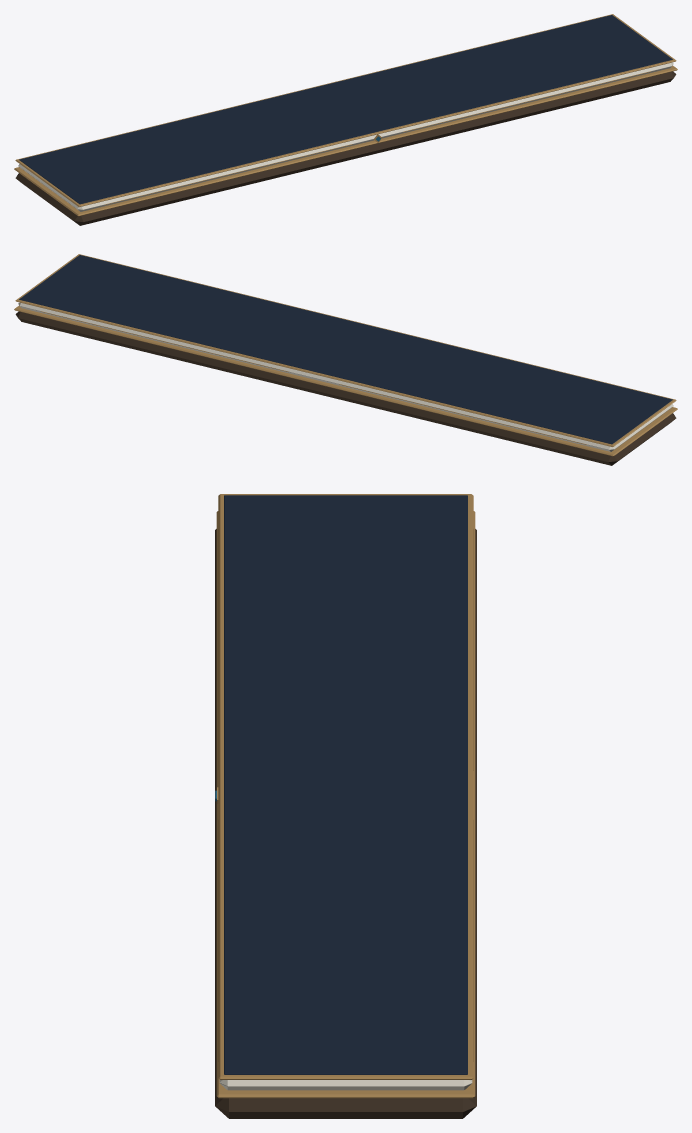
The model's file is market-low.glb.
3 views of the same model, one above another, from view 1: azimuth 30°, elevation 25°; view 2: azimuth 150°, elevation 25°; view 3: azimuth 270°, elevation 25° (orthographic). The views are drawn at different scales.
Visible parts, largest first — view 1: MarketVisual; view 2: MarketVisual; view 3: MarketVisual.
Part boxes in pixels (x1,y1,x2,y2): MarketVisual: [14, 14, 677, 225]; MarketVisual: [14, 254, 677, 465]; MarketVisual: [215, 494, 476, 1118].
Bounding box in the file's own units: 0.384 × 0.0141 × 0.0723.
